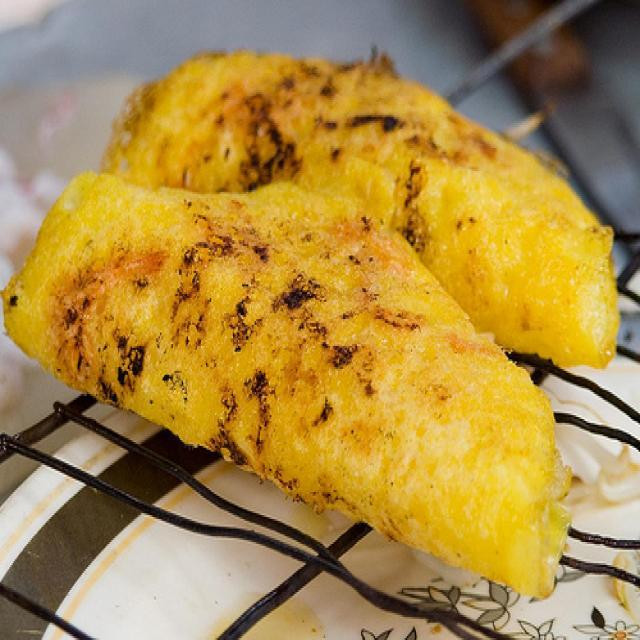Omelet: (9, 173, 563, 609)
